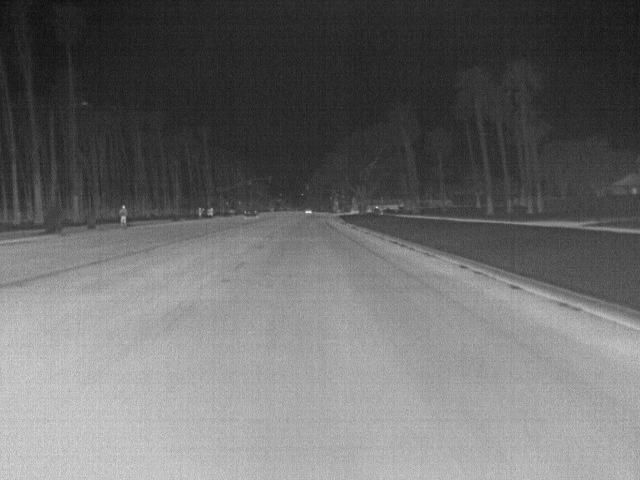car: (243, 206, 258, 218)
person: (118, 203, 127, 227), (206, 206, 215, 217), (196, 207, 204, 218)
